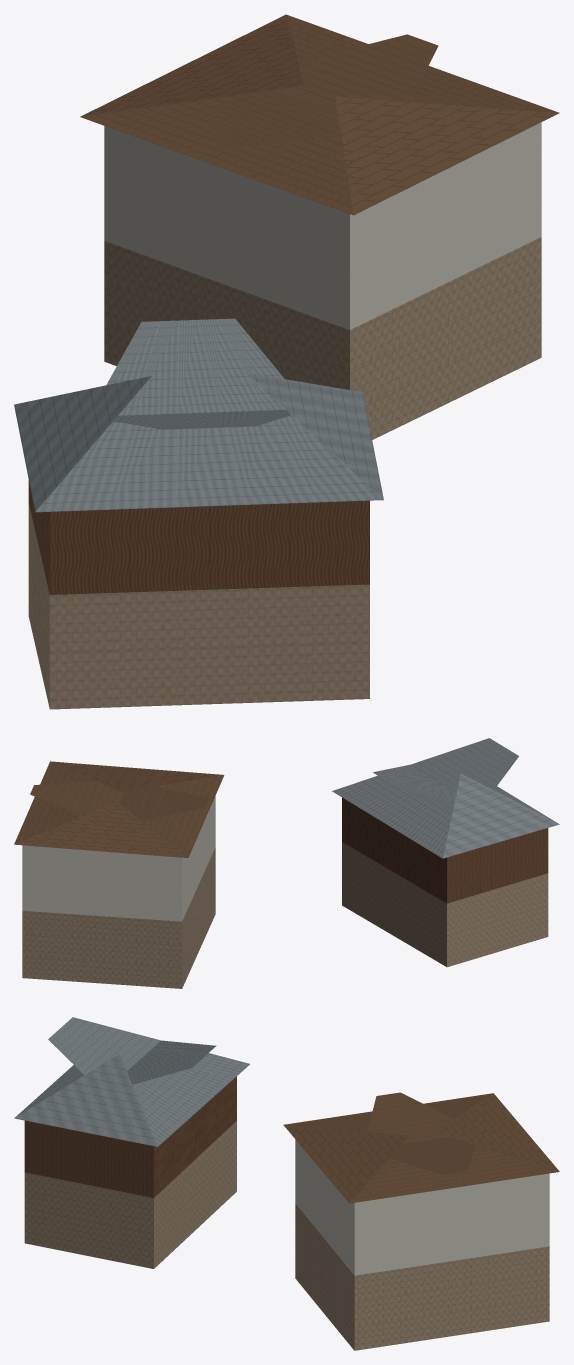
Rendered from bld_c8_16_436.gltf.
The picture shows the model from 3 angles, top to bottom: view 1: azimuth 30°, elevation 25°; view 2: azimuth 150°, elevation 25°; view 3: azimuth 270°, elevation 25°; orthographic projection. The views are drawn at different scales.
Visible parts, largest first — view 1: bld_c8_16_436; view 2: bld_c8_16_436; view 3: bld_c8_16_436.
Boxes of the visible parts, x1=… form: bld_c8_16_436: x1=14, y1=14, x2=559, y2=709; bld_c8_16_436: x1=14, y1=738, x2=559, y2=988; bld_c8_16_436: x1=14, y1=1017, x2=559, y2=1350.
Size of the model in its own units: 31.79 by 13 by 33.6.
Materials: 5 (5 with a texture image).
